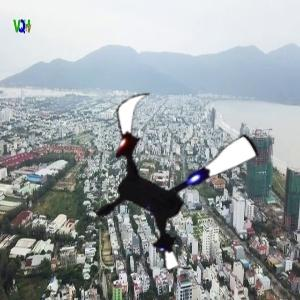drone: (77, 84, 267, 274)
